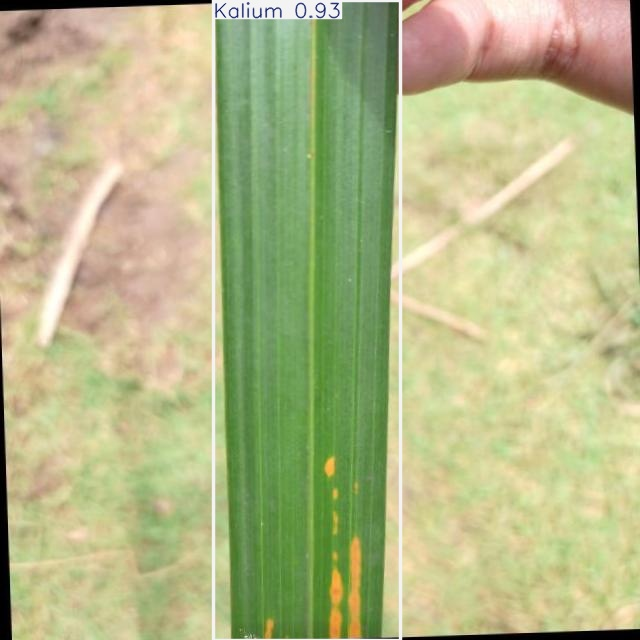Kalium: (213, 0, 400, 640)
